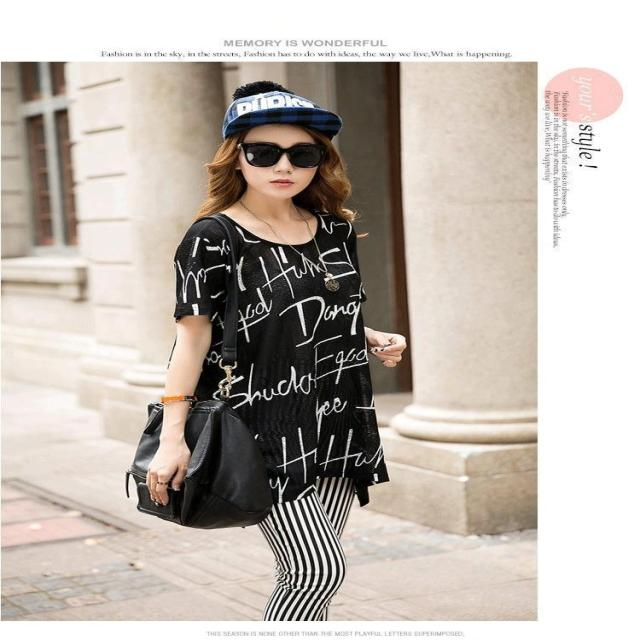short sleeve dress: (169, 211, 391, 512)
trousers: (215, 354, 368, 623)
